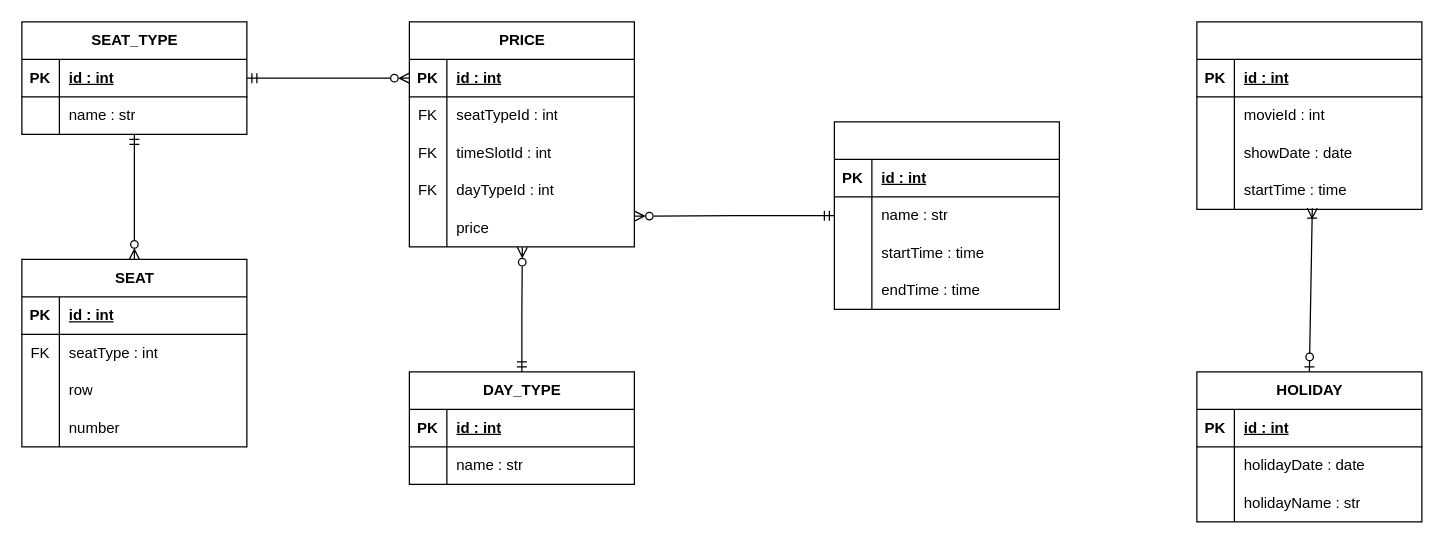
This 1444x544 diagram has some shape labels left out. The box of each missing label's shape, as (x1, y1, x2, y2) in pixels:
SHOWTIME: (1196, 21, 1422, 209)
TIME_SLOT: (833, 121, 1059, 309)
